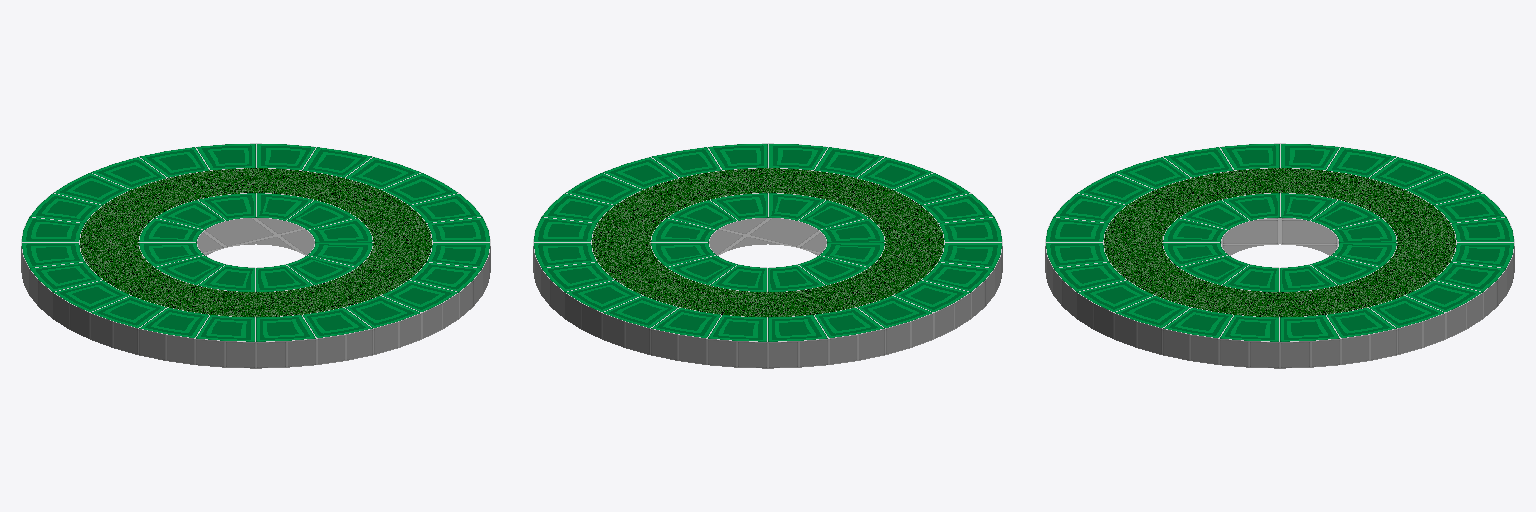
The picture shows the model from 3 angles: view 1: azimuth 30°, elevation 25°; view 2: azimuth 150°, elevation 25°; view 3: azimuth 270°, elevation 25°; orthographic projection.
Parts seen in each view (by area): view 1: SanctuaryTowersWheel; view 2: SanctuaryTowersWheel; view 3: SanctuaryTowersWheel.
Boxes of the visible parts, x1=… form: SanctuaryTowersWheel: x1=21, y1=143, x2=490, y2=368; SanctuaryTowersWheel: x1=533, y1=143, x2=1002, y2=368; SanctuaryTowersWheel: x1=1045, y1=143, x2=1514, y2=368.
Bounding box in the file's own units: 16 × 1 × 16.
Materials: 3 (3 with a texture image).